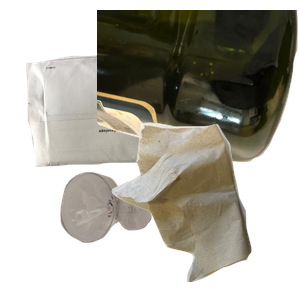glass: (58, 170, 202, 300)
paper: (24, 43, 242, 202)
plastic: (97, 10, 300, 165)
trash: (109, 120, 300, 300)
